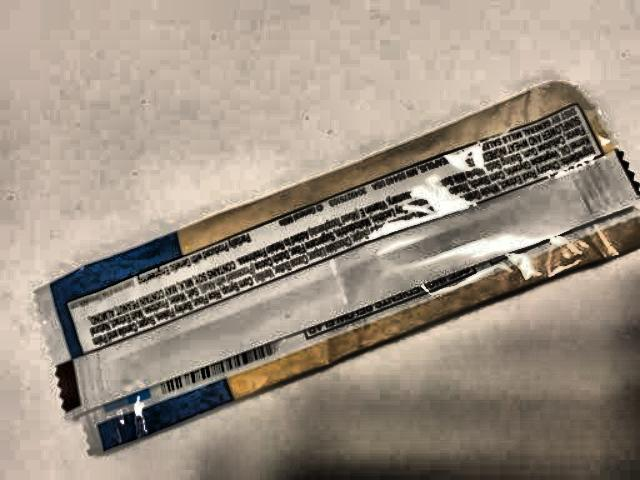Plastic: (24, 76, 640, 452)
